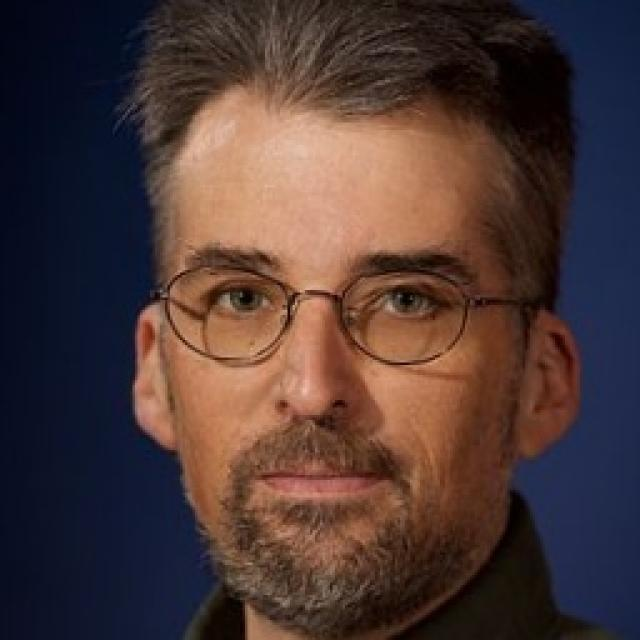glasses: (148, 261, 546, 368)
